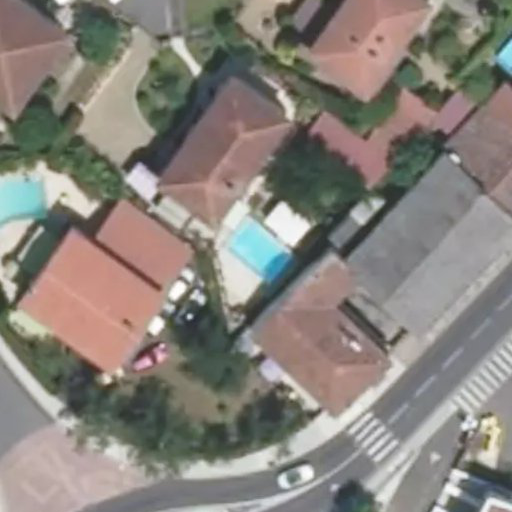pool: (223, 237, 287, 245)
